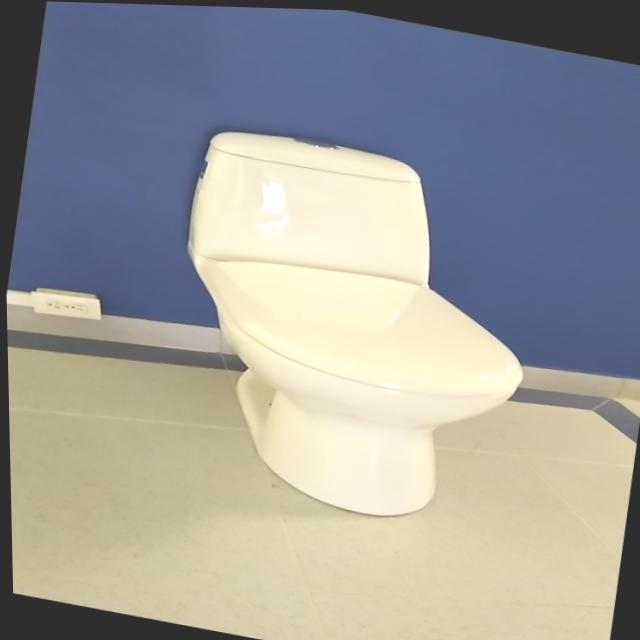toilet: (145, 116, 557, 538)
